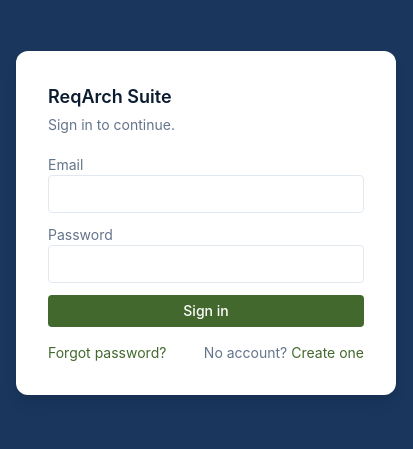
Test: AuthGate › signing up lands on "check your email", not in the app
The width and height of the screenshot is (413, 449).
Click the button "Create one": (328, 353) [291,343,364,363]
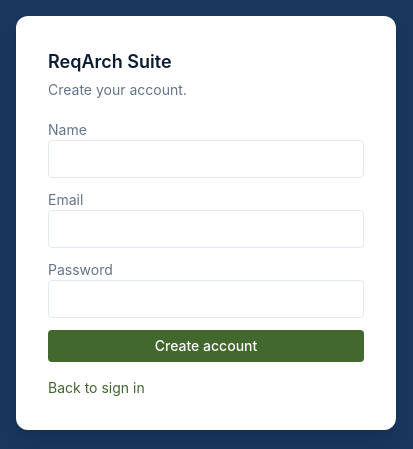
In the field labelled "Name": (206, 159) [48,140,364,178], type "Verified Name"
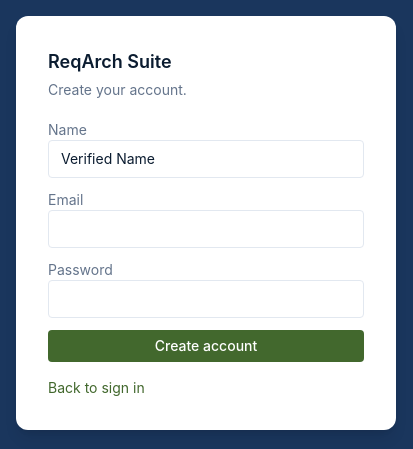
In the field labelled "Email": (206, 229) [48,210,364,248], type "v@example.com"
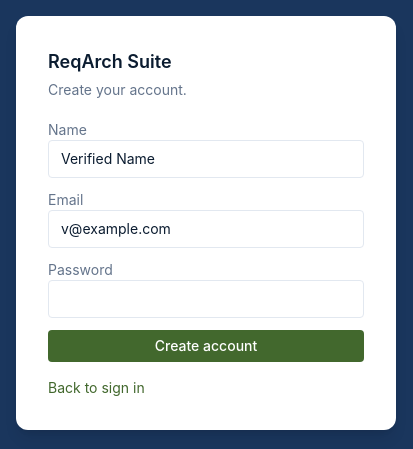
In the password field labelled "Password": (206, 299) [48,280,364,318], type "hunter22"
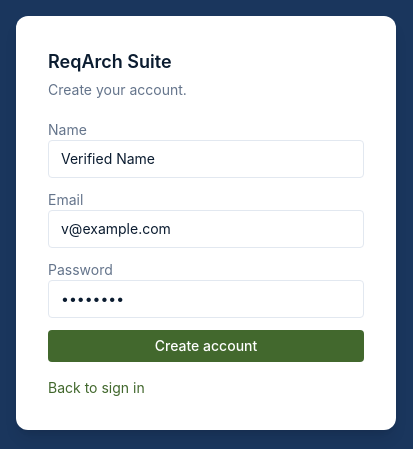
Click the button "Create account": (206, 346) [48,330,364,362]
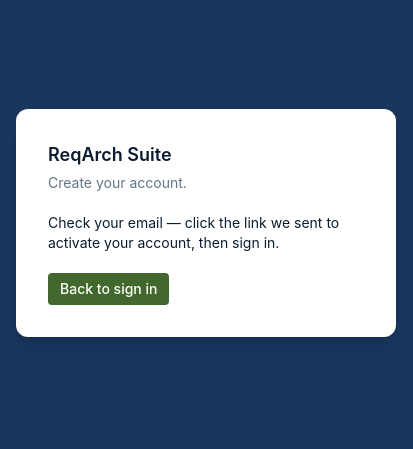
Result: the text "Check your email" is shown at [48,214,339,251]
